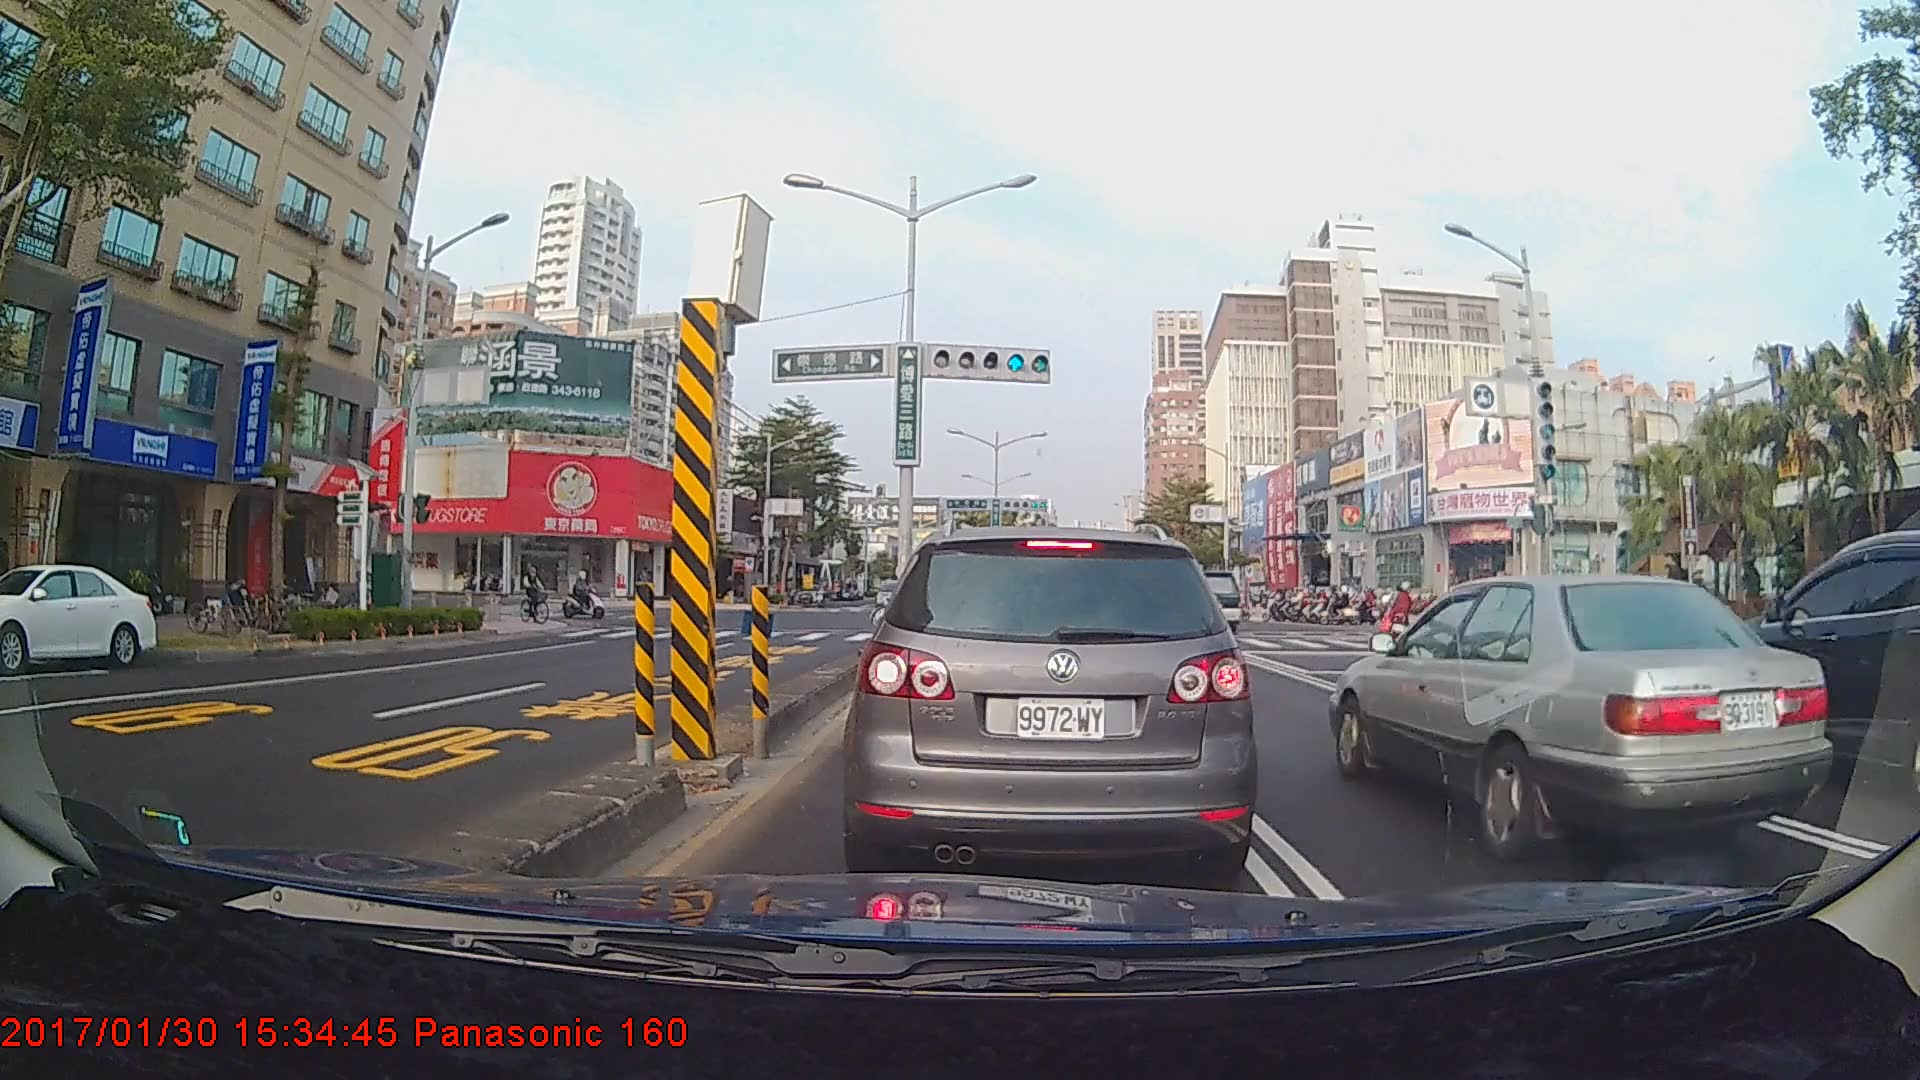rider: (518, 559, 561, 629), (564, 568, 615, 625), (1382, 582, 1421, 649)
vehicle: (1325, 567, 1832, 863), (852, 522, 1253, 877), (1692, 525, 1920, 805), (0, 561, 161, 671), (1163, 567, 1245, 636)
